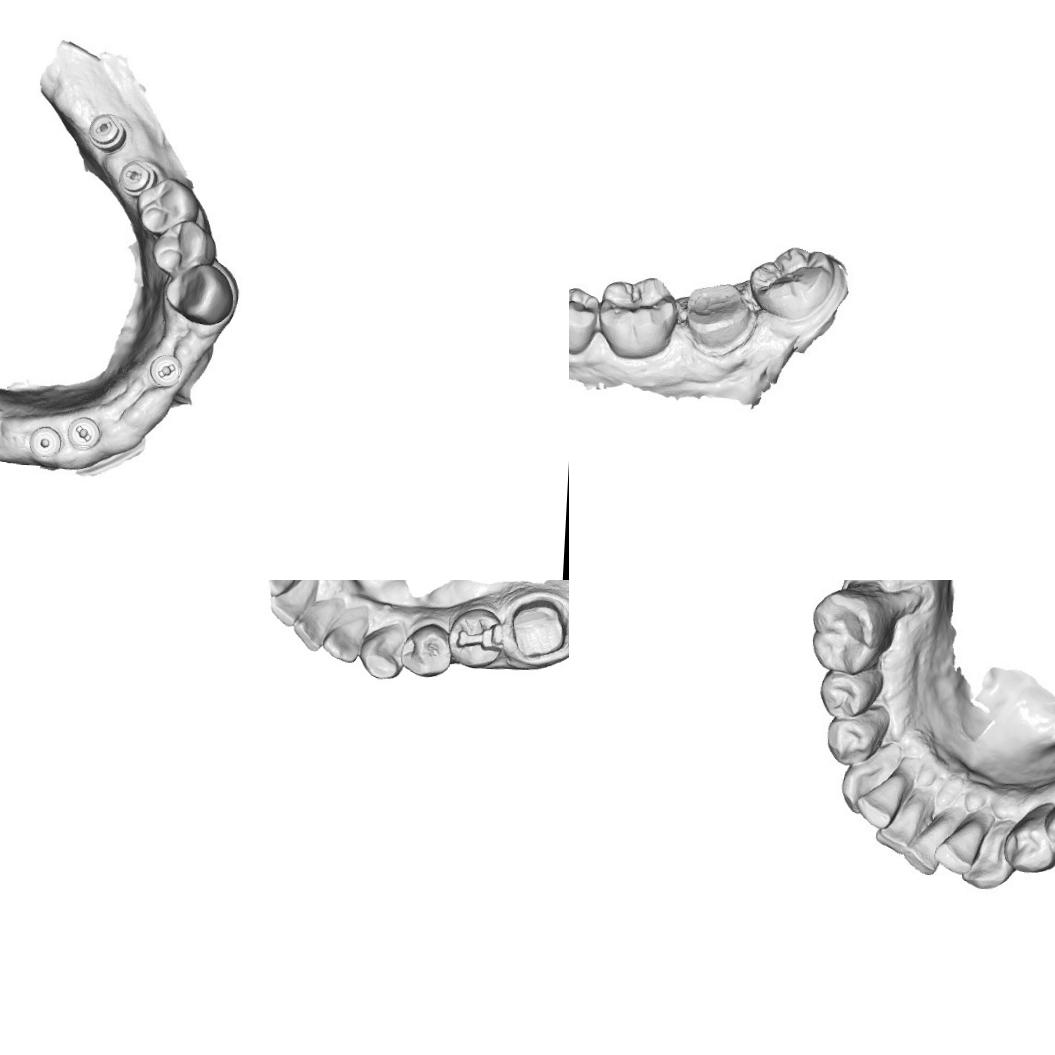canine: (162, 262, 230, 324), (964, 821, 1018, 891), (834, 751, 890, 818), (357, 620, 409, 682)
crown: (676, 276, 756, 356), (508, 596, 568, 661)
implant: (27, 423, 65, 461)
implant_minus: (147, 351, 186, 392), (86, 114, 126, 152), (64, 416, 102, 455), (117, 160, 157, 194)
incisor: (911, 810, 959, 876), (875, 793, 926, 855), (856, 766, 906, 828), (940, 812, 992, 871), (319, 613, 370, 665), (290, 597, 336, 653), (266, 580, 318, 628), (262, 580, 315, 598)
inlay: (451, 616, 505, 656)
molar: (744, 239, 839, 328), (598, 276, 678, 362), (812, 594, 888, 676)
premolar: (1006, 801, 1055, 874), (398, 619, 456, 679), (820, 668, 876, 720), (827, 712, 883, 762), (140, 184, 194, 233), (152, 222, 204, 270), (569, 283, 600, 354)
